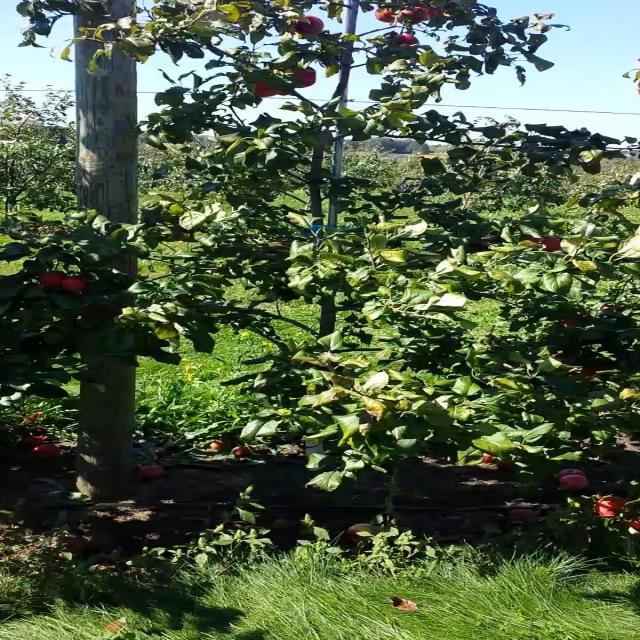apple: (291, 16, 327, 36), (525, 236, 564, 252), (291, 68, 320, 88), (255, 80, 283, 99), (397, 8, 427, 25), (63, 276, 91, 293), (383, 248, 411, 264), (42, 272, 68, 289), (540, 236, 564, 252), (376, 8, 396, 24), (426, 8, 448, 20), (397, 36, 420, 46), (413, 8, 432, 20), (561, 320, 580, 328), (582, 368, 597, 377)
